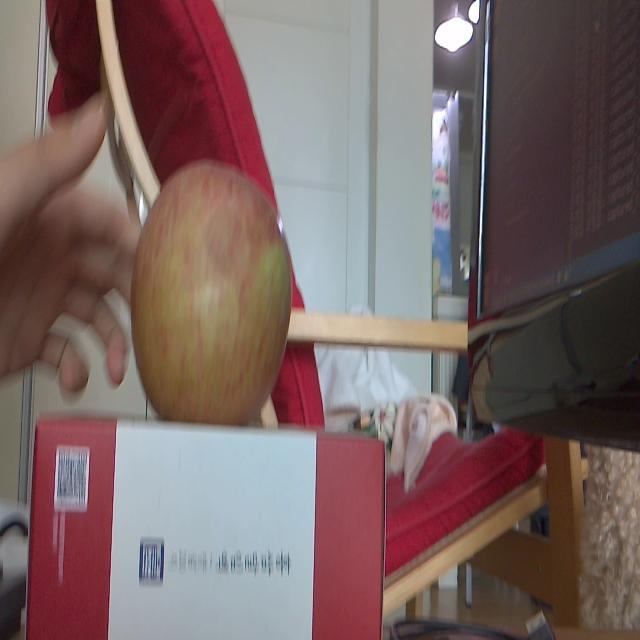apple: (132, 162, 292, 426)
